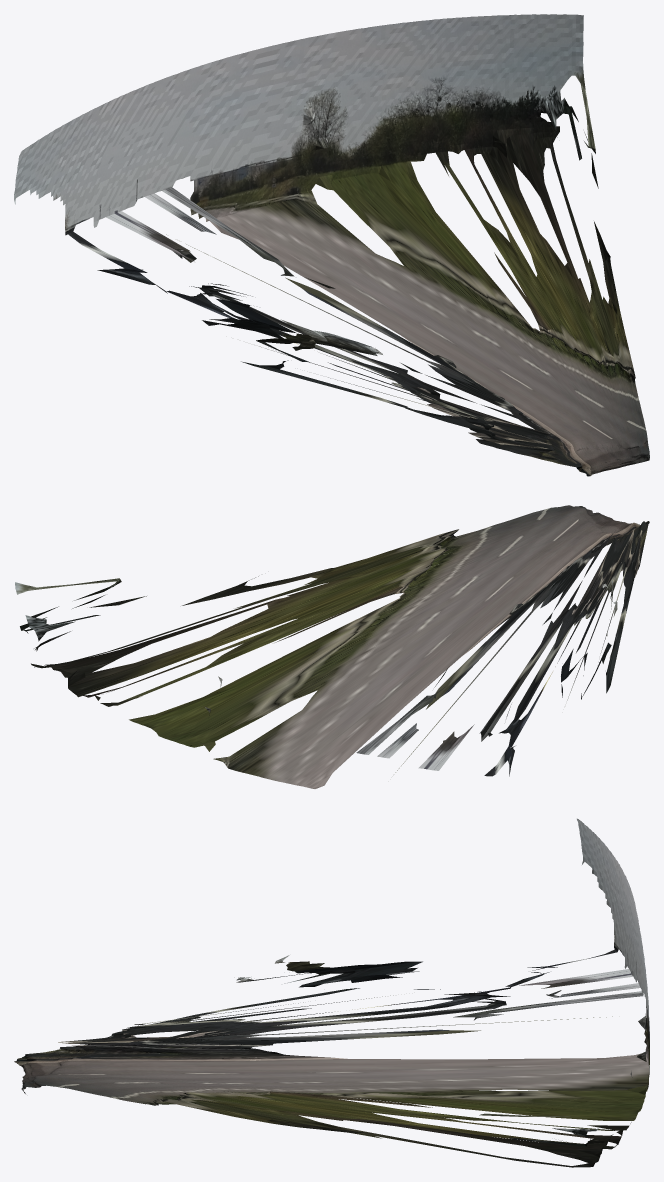
3 renders of one model, top to bottom at view 1: azimuth 30°, elevation 25°; view 2: azimuth 150°, elevation 25°; view 3: azimuth 270°, elevation 25°, orthographic. The views are drawn at different scales.
Visible parts, largest first — view 1: defaultobject; view 2: defaultobject; view 3: defaultobject.
Part boxes in pixels (x1,y1,x2,y2): defaultobject: (14,14,649,476); defaultobject: (15,505,649,788); defaultobject: (14,818,649,1167).
Size of the model in its own units: 40.94 by 11.67 by 44.8.
1 material, 1 textured.
